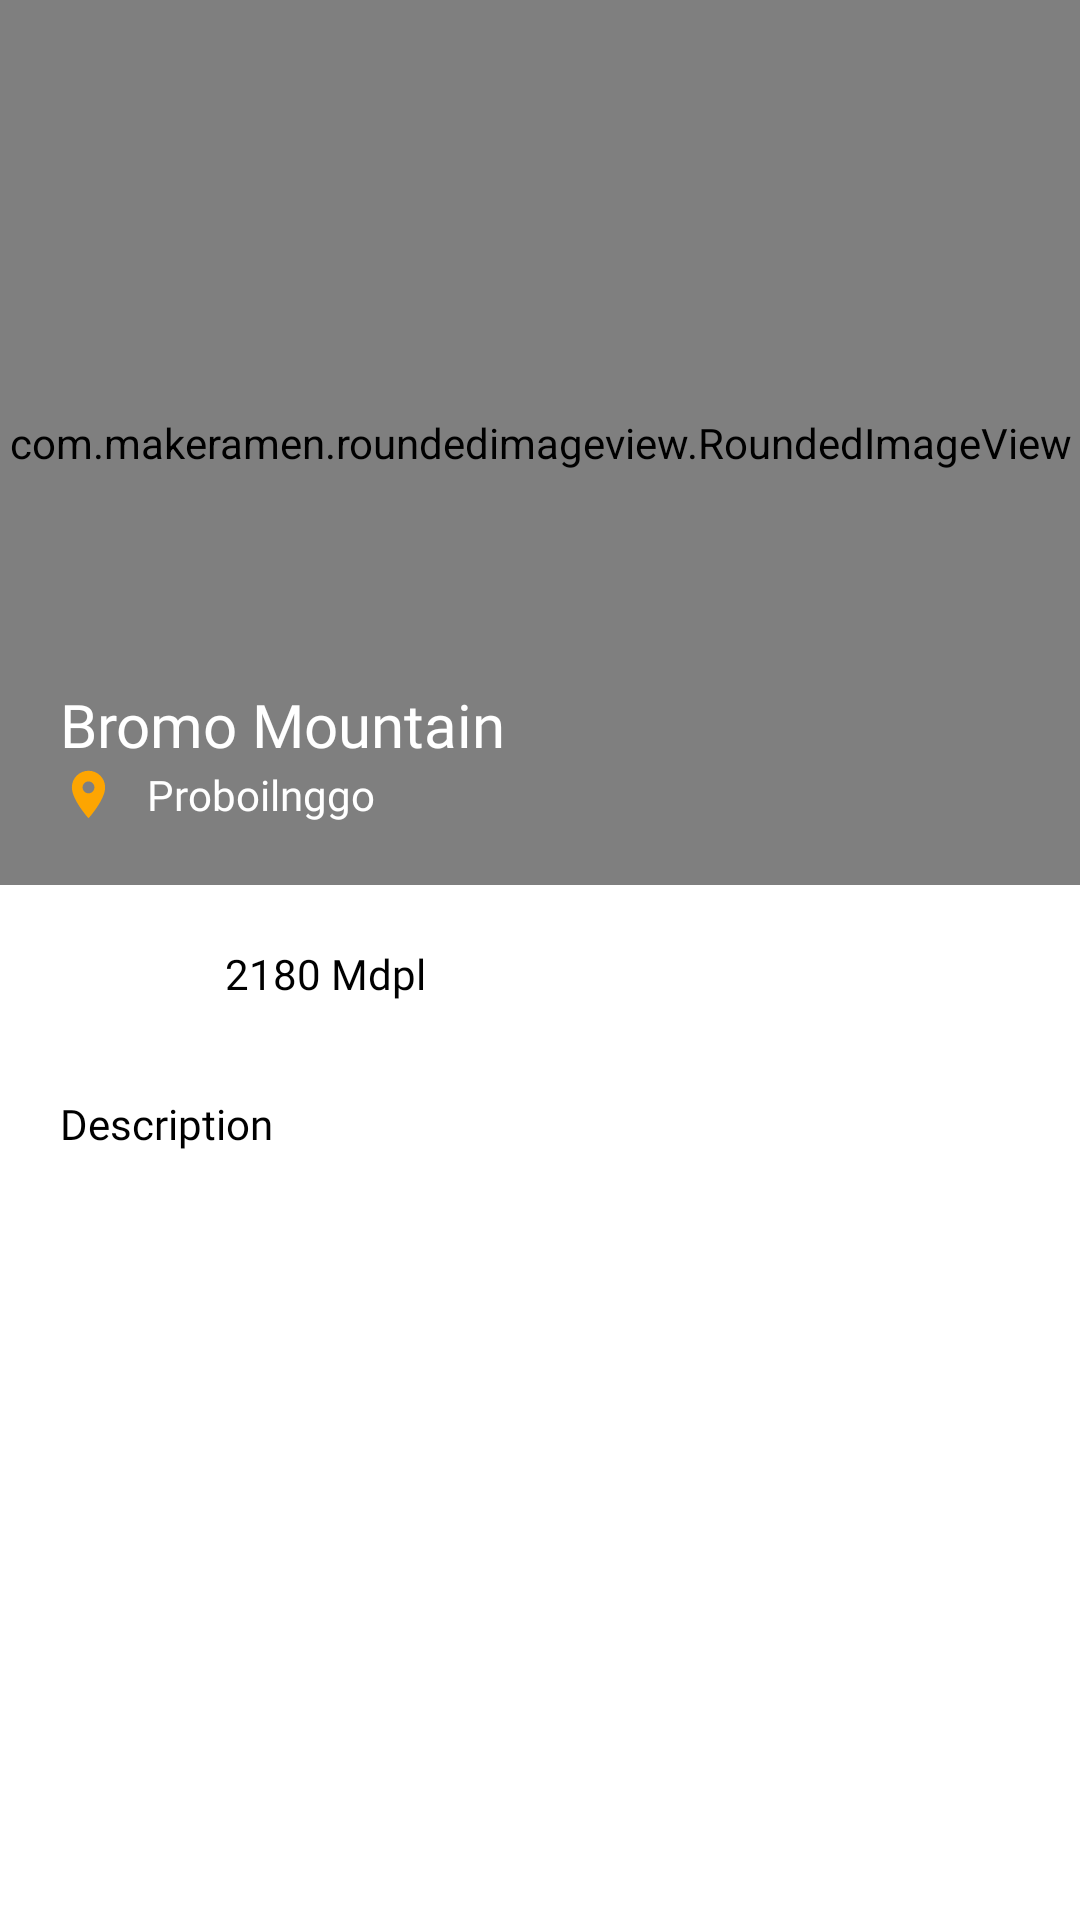

Named icons in this screenshot (1080px×1920px) and their centers, (x,y):
location: (88,794)
